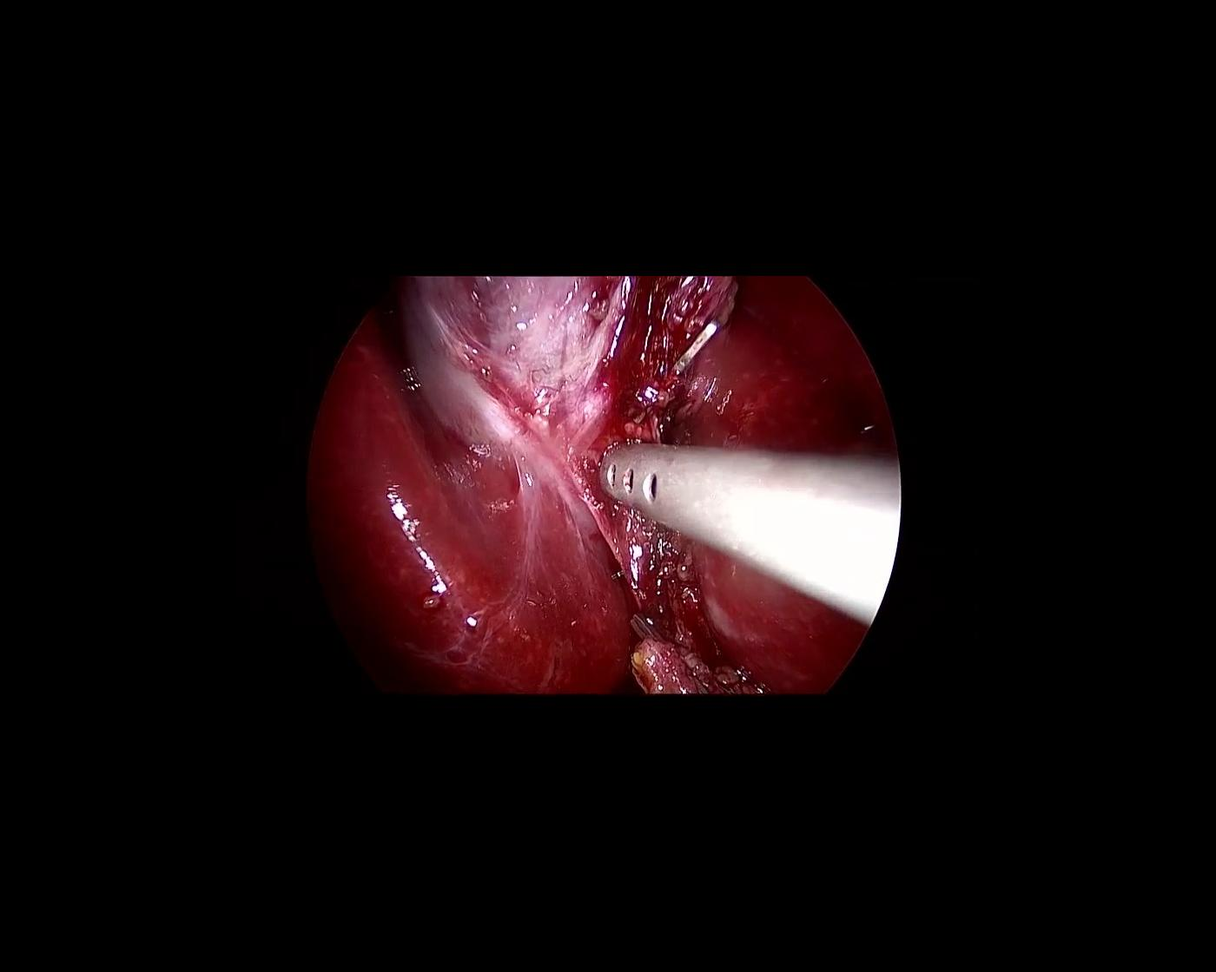Gallbladder: (403, 278, 633, 472)
Liver: (197, 283, 680, 801), (681, 277, 899, 697)
Suction: (588, 337, 946, 626)
